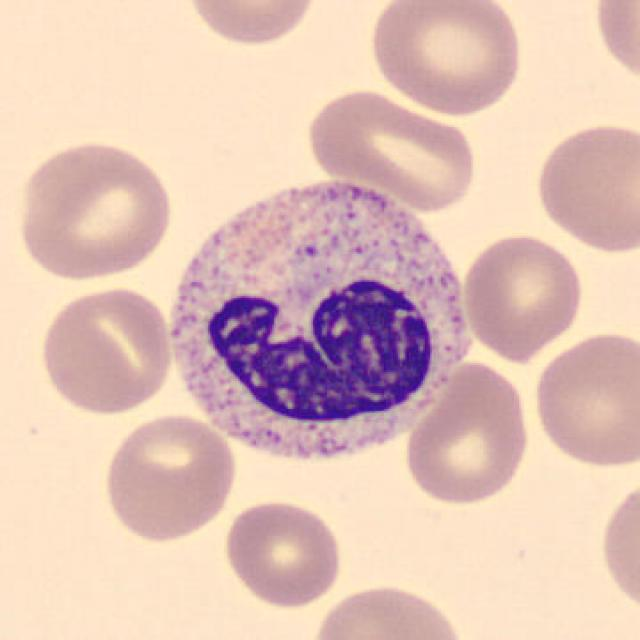Neutrophil: (155, 160, 478, 480)
RBC: (12, 136, 178, 284), (302, 85, 482, 212), (400, 358, 533, 508), (36, 282, 176, 418), (100, 409, 240, 545), (366, 0, 528, 116), (458, 230, 586, 362), (530, 328, 638, 471), (530, 118, 638, 256), (218, 495, 346, 610), (308, 580, 470, 640), (179, 0, 323, 49), (596, 472, 638, 620), (588, 0, 640, 90)
